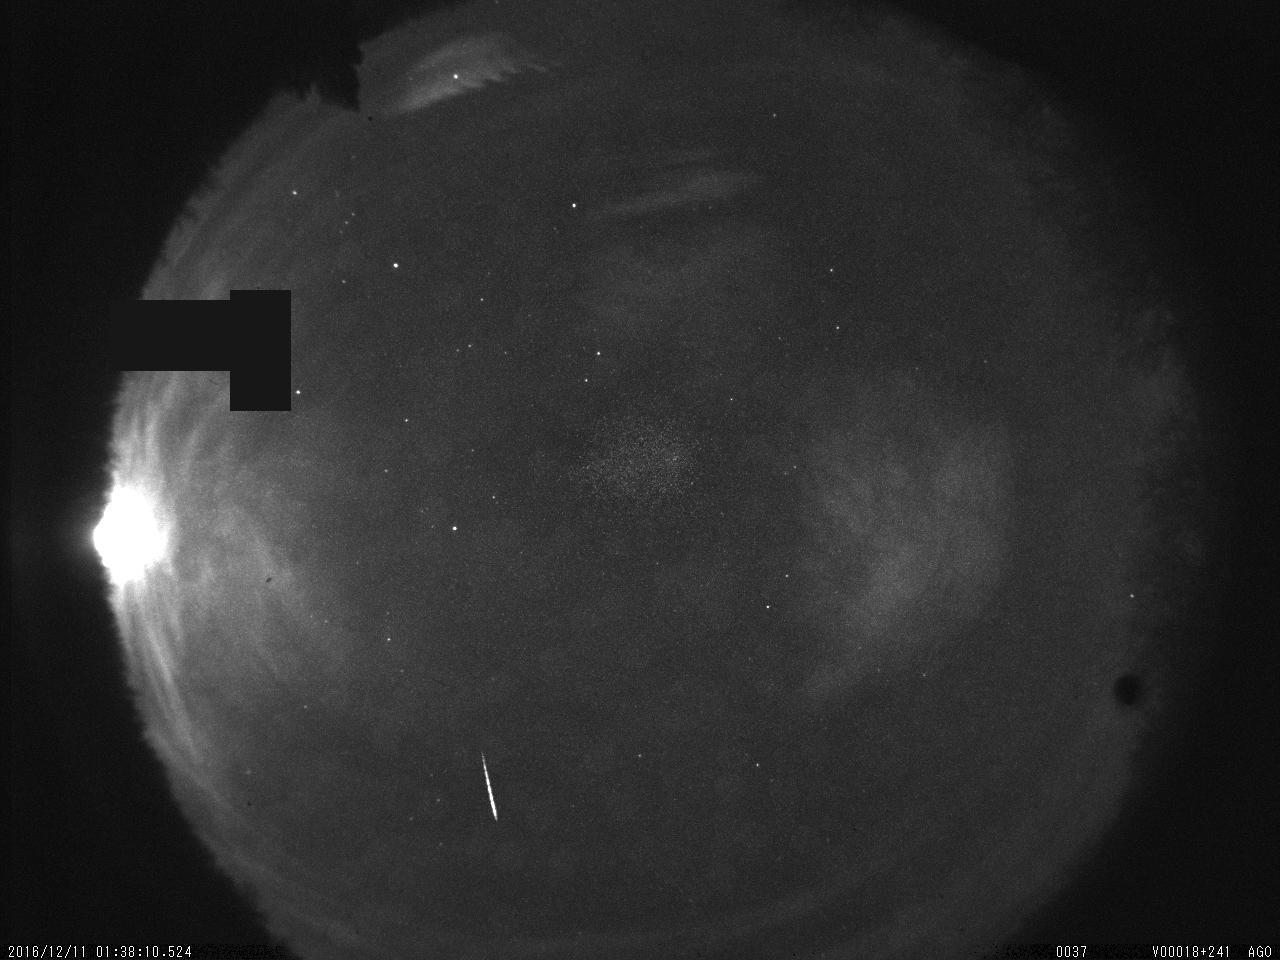meteor: (474, 746, 511, 831)
